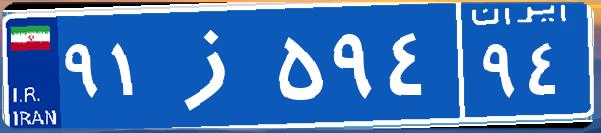1: (110, 28, 158, 105)
4: (385, 28, 445, 110), (525, 38, 570, 115)
5: (273, 28, 330, 110)
9: (330, 28, 385, 110), (57, 26, 110, 107), (475, 38, 525, 113)
ز: (158, 15, 273, 115)
